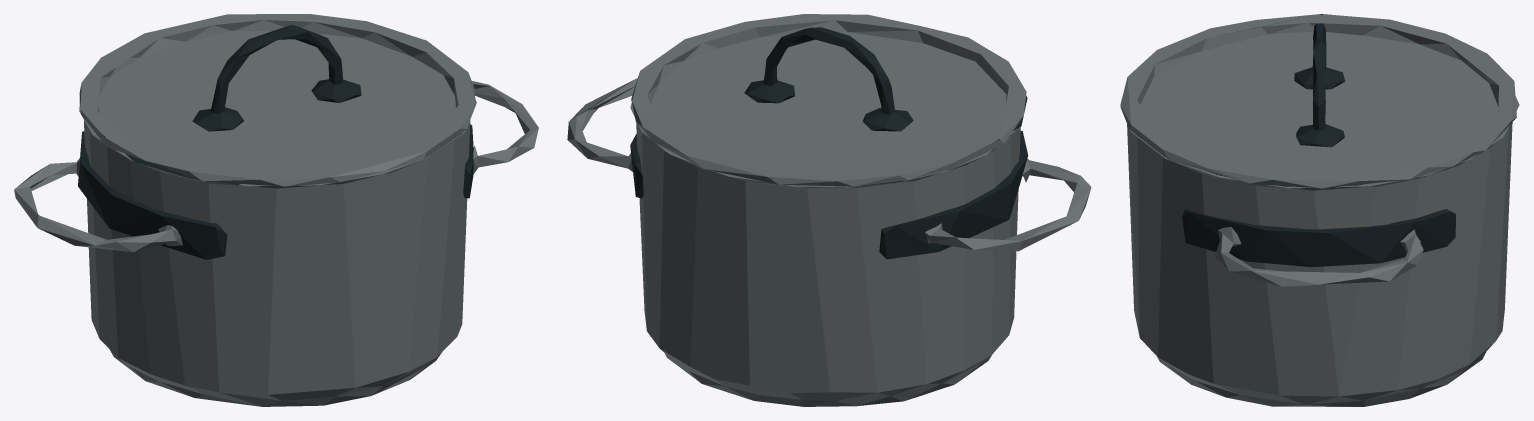
Rendered from Pot05.fbx.
The picture shows the model from 3 angles, left to right: view 1: azimuth 30°, elevation 25°; view 2: azimuth 150°, elevation 25°; view 3: azimuth 270°, elevation 25°; orthographic projection.
Parts seen in each view (by area): view 1: Pot05LowPoly, Pot05LidLowPoly; view 2: Pot05LowPoly, Pot05LidLowPoly; view 3: Pot05LowPoly, Pot05LidLowPoly.
Boxes of the visible parts, x1,y1,x2,y2 form: Pot05LowPoly: (14,81,538,406); Pot05LidLowPoly: (79,14,475,186); Pot05LowPoly: (567,78,1091,406); Pot05LidLowPoly: (631,14,1026,186); Pot05LowPoly: (1120,96,1519,406); Pot05LidLowPoly: (1120,14,1516,188).
Bounding box in the file's own units: 22.63 × 13.59 × 15.99.
